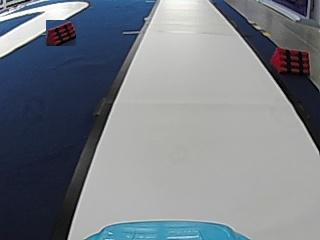bomb: (270, 47, 312, 73)
